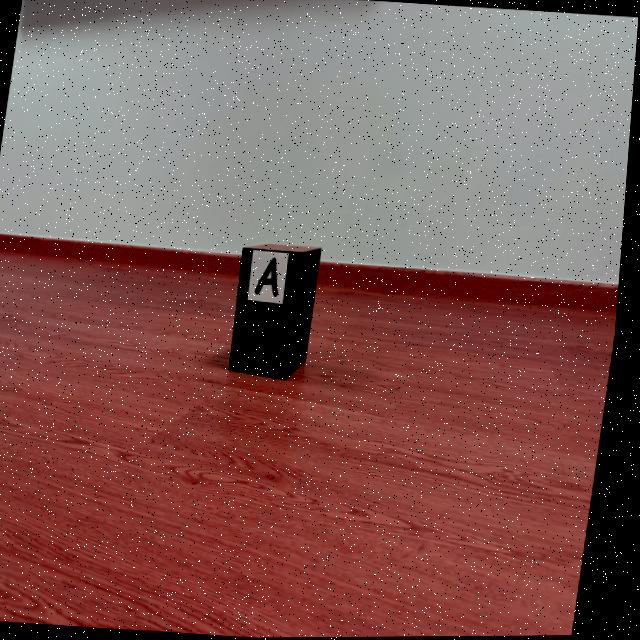A: (260, 258, 282, 297)
